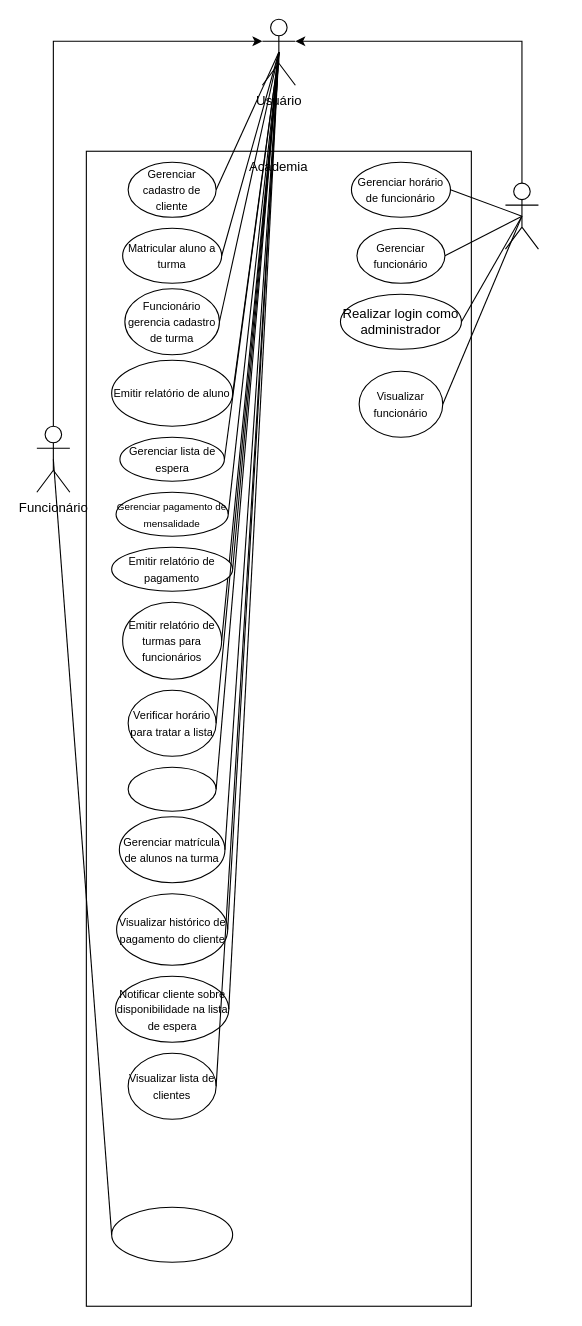
Some shapes in this 582 by 1326 pixel diagram are drawn without their labels. Each missing label, with the centre of its shape:
"Administrador" goes at point 521,215.
"Realizar login como funcionário" goes at point 172,1234.
"Visualizar turma na semana" goes at point 171,788.
